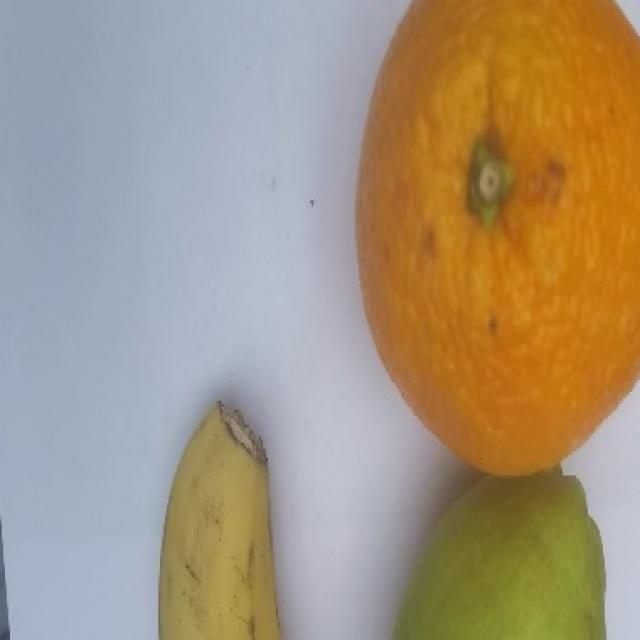Banana: (154, 394, 286, 640)
Orange: (348, 4, 640, 479)
